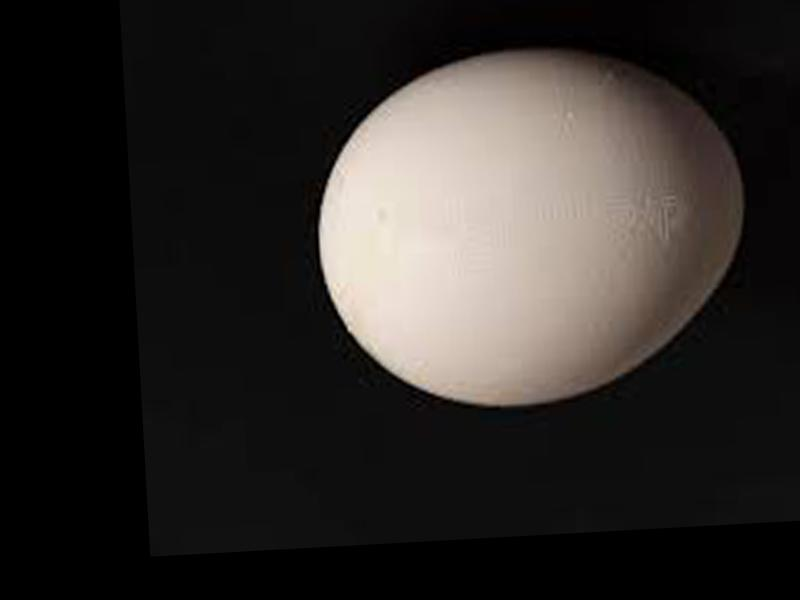Eggs: (306, 41, 752, 415)
